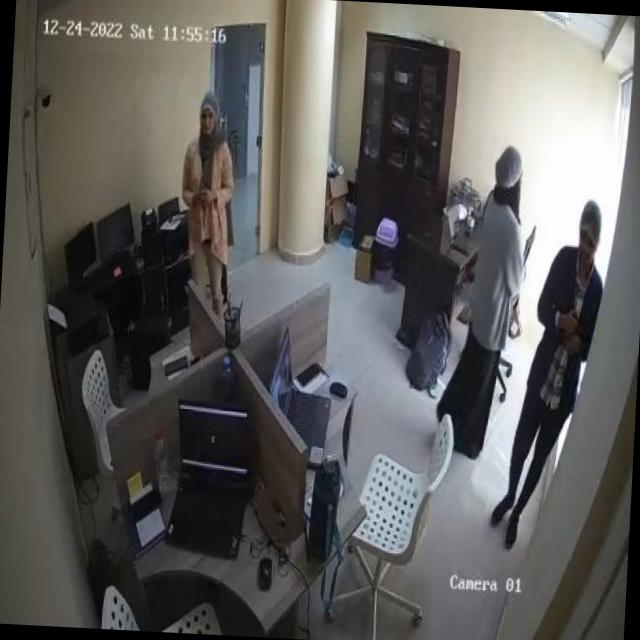hairnet: (494, 147, 524, 190), (582, 198, 604, 240), (198, 94, 223, 120)
